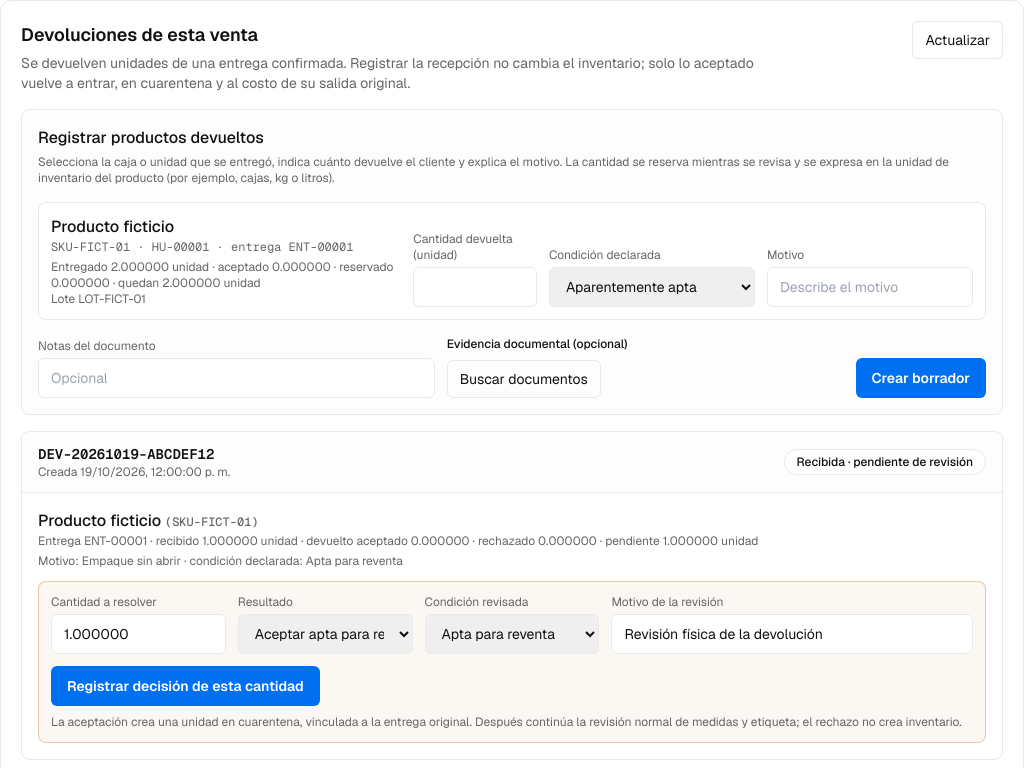
Test case: SalesReturnsPanel › rechaza una cantidad a resolver inválida: 0
Replace the text in the number field labelled "Cantidad a resolver" with "0" at (138, 634), box [51,614,226,654]
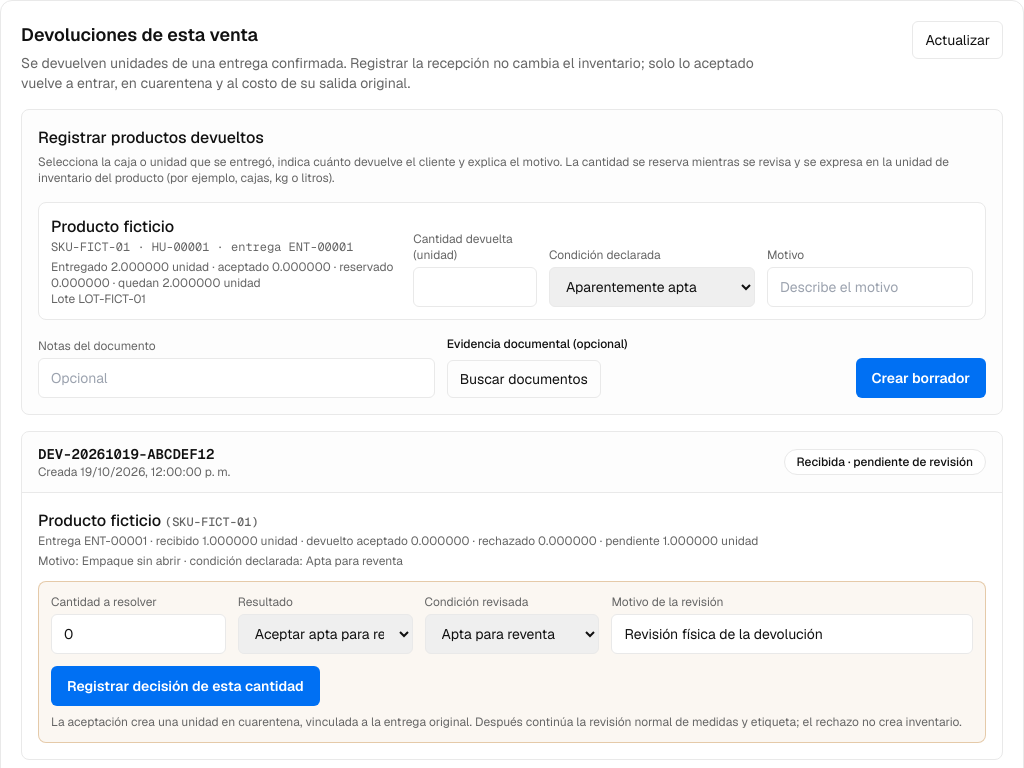
Click the button "Registrar decisión de esta cantidad" at (185, 686), box [51,666,320,706]
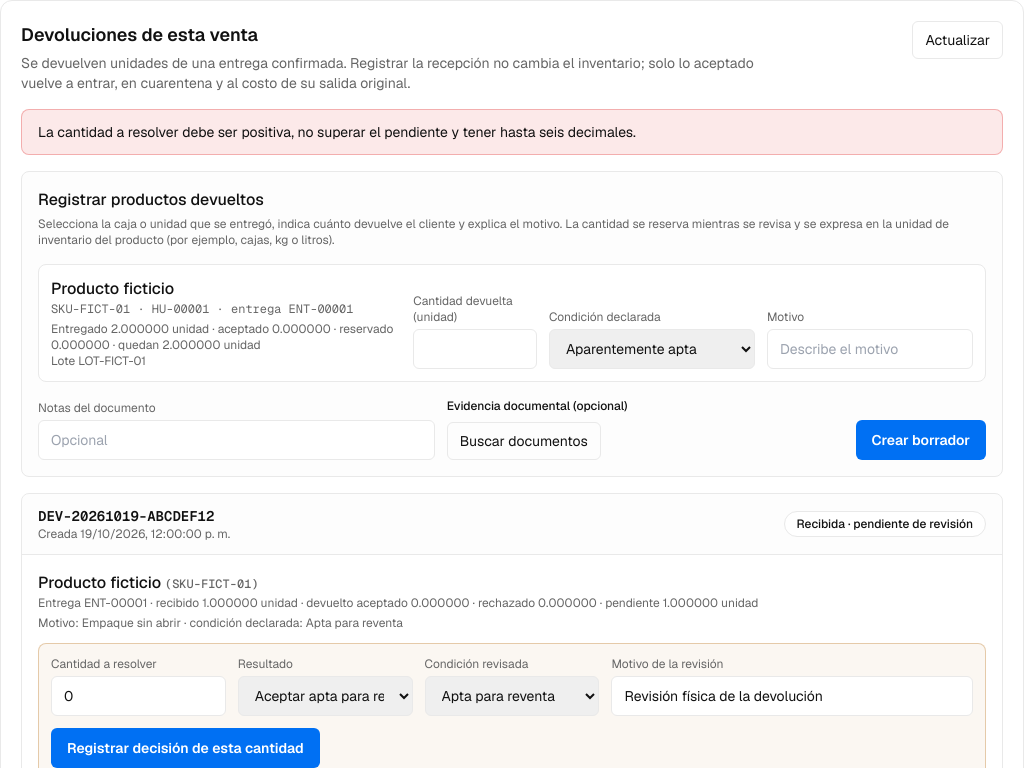
Result: the message shows "La cantidad a resolver debe ser positiva" at [38,123,636,141]
